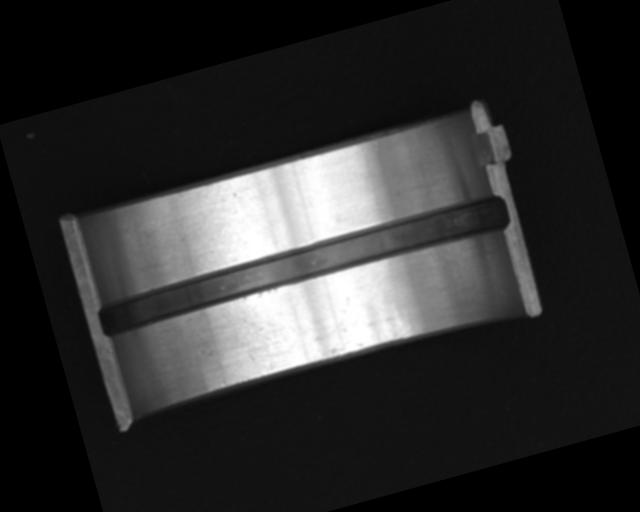gap: (93, 189, 515, 343)
